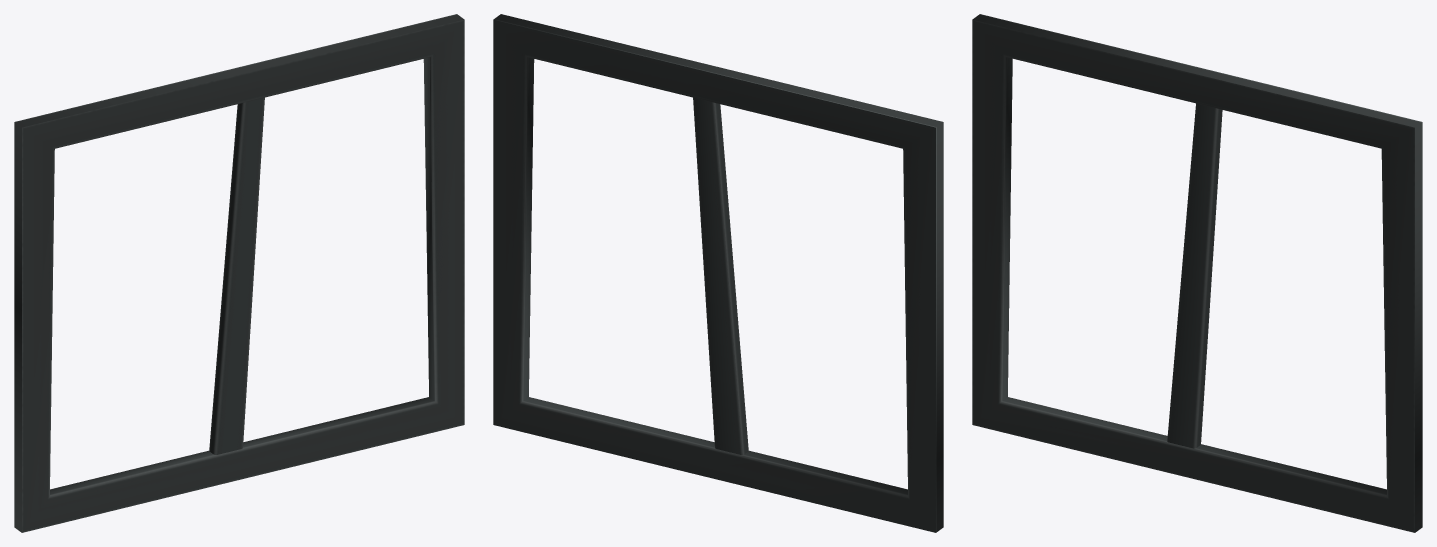
Rendered from PropWindow02TypeB_1.FBX.
3 views of the same model, side by side, from view 1: azimuth 30°, elevation 25°; view 2: azimuth 150°, elevation 25°; view 3: azimuth 330°, elevation 25° (orthographic).
Parts seen in each view (by area): view 1: PropWindow02TypeB_1; view 2: PropWindow02TypeB_1; view 3: PropWindow02TypeB_1.
Part boxes in pixels (<box>): PropWindow02TypeB_1: <box>14,14,464,532</box>; PropWindow02TypeB_1: <box>493,14,943,532</box>; PropWindow02TypeB_1: <box>972,14,1422,532</box>.
Size of what is drawn, in the model's own units: 2 by 1.75 by 0.06.
